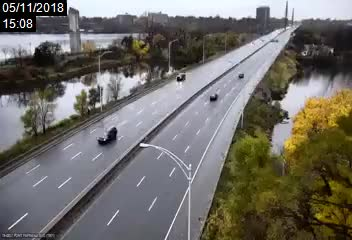personal_car: (94, 125, 118, 146), (176, 72, 187, 82), (208, 92, 219, 100), (237, 72, 245, 79)
